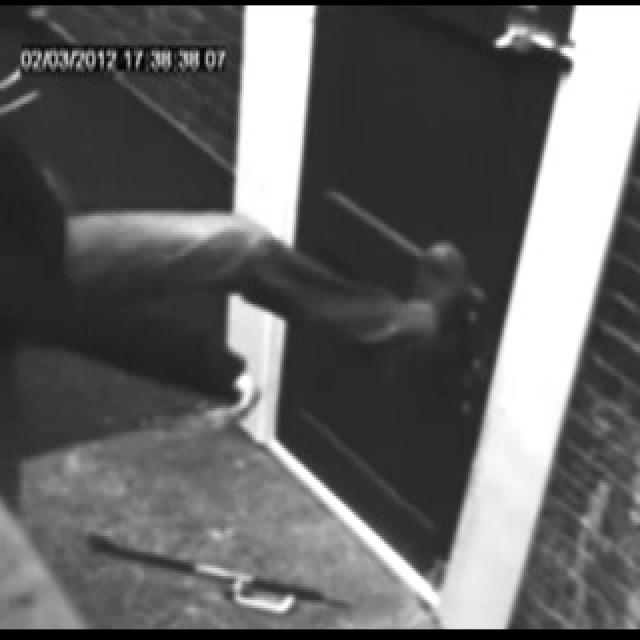thief: (0, 110, 470, 350)
